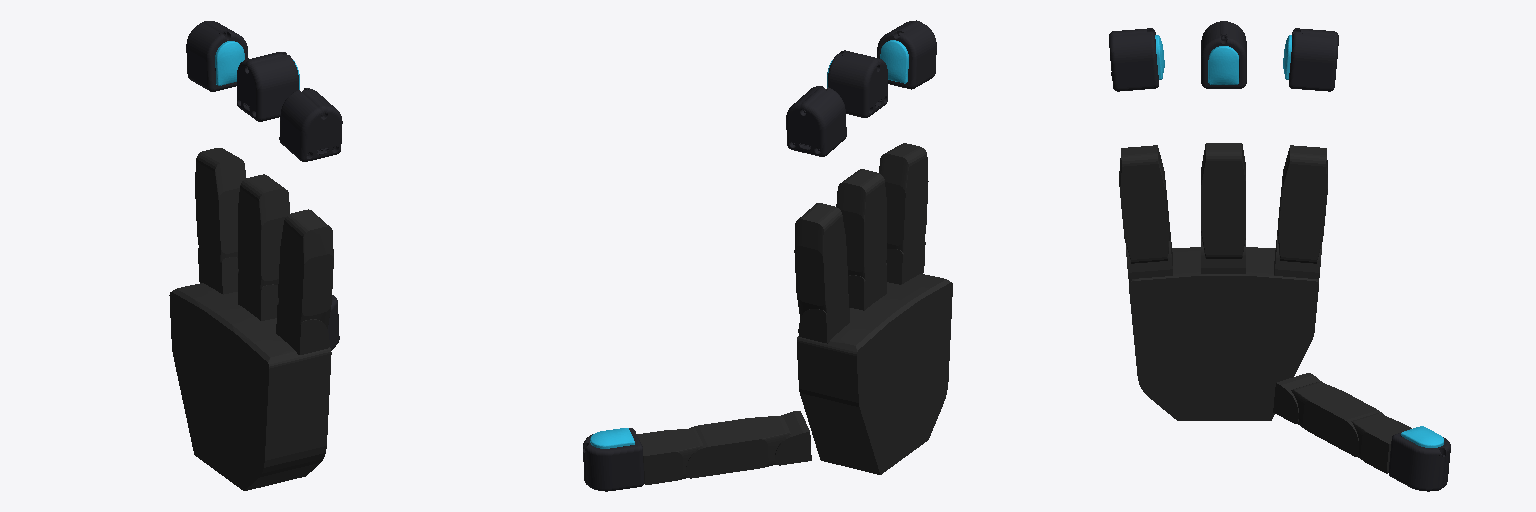
The robot description file, URDF, robot "allegro_digit_compact_inward90":
<?xml version='1.0' encoding='utf-8'?>
<robot name="allegro_digit_compact_inward90" geometry_manifest="collision_baselines/compact_manifest.json" geometry_manifest_sha256="7bac25ed2cc299705995c4d7945d86a44938f8bfdb91de6fba0410e375cc9924" mount_profile="inward90_right">







  <link name="base_link">
    <visual>
      <geometry>
        <mesh filename="meshes/allegro/base_link.obj" />
      </geometry>
      <origin rpy="0 0 0" xyz="0 0 0 " />
      <material name="black">
        <color rgba="0.2 0.2 0.2 1" />
      </material>
    </visual>
    <inertial>
      <origin xyz="0 0 0.0475" rpy="0 0 0" />
      <mass value="0.4154" />
      <inertia ixx="1e-4" ixy="0.0" ixz="0.0" iyy="1e-4" iyz="0.0" izz="1e-4" />
    </inertial>
  <collision><origin xyz="0 0 0" rpy="0 0 0" /><geometry><mesh filename="collision_baselines/compact_0.obj" /></geometry></collision><collision><origin xyz="0 0 0" rpy="0 0 0" /><geometry><mesh filename="collision_baselines/compact_1.obj" /></geometry></collision><collision><origin xyz="0 0 0" rpy="0 0 0" /><geometry><mesh filename="collision_baselines/compact_2.obj" /></geometry></collision></link>




  <link name="link_0.0">
    <visual>
      <geometry>
        <mesh filename="meshes/allegro/link_0.0.obj" />
      </geometry>
      <material name="black" />
    </visual>
    <inertial>
      <mass value="0.0119" />
      <origin xyz="0 0 0" rpy="0 0 0" />
      <inertia ixx="1.01666658333e-06" ixy="0.0" ixz="0.0" iyy="6.47677333333e-07" iyz="0.0" izz="1.01666658333e-06" />
    </inertial>
  <collision>
      <geometry>
        <box size="0.0196 0.0275 0.0164" />
      </geometry>
      <origin rpy="0 0 0" xyz="0 0 0.0082" />
    </collision>
    </link>
  <joint name="joint_0.0" type="revolute">
    <axis xyz="0 0 1" />
    <limit effort="0.35" lower="-0.47" upper="0.47" velocity="6.283" />
    <parent link="base_link" />
    <child link="link_0.0" />
    <origin rpy="-0.08726646255 0 0" xyz="0 0.0435 -0.001542" />
  </joint>
  <link name="link_1.0">
    <visual>
      <geometry>
        <mesh filename="meshes/allegro/link_1.0.obj" />
      </geometry>
      <material name="black" />
    </visual>
    <inertial>
      <mass value="0.065" />
      <origin xyz="0 0 0" rpy="0 0 0" />
      <inertia ixx="7.95654166667e-05" ixy="1.7199e-05" ixz="8.75875e-06" iyy="2.47088833333e-05" iyz="2.413125e-05" izz="7.95654166667e-05" />
    </inertial>
  <collision>
      <geometry>
        <box size="0.0196 0.0275 0.054" />
      </geometry>
      <origin rpy="0 0 0" xyz="0 0 0.027" />
    </collision>
    </link>
  <joint name="joint_1.0" type="revolute">
    <limit effort="0.35" lower="-0.196" upper="1.61" velocity="6.283" />
    <axis xyz="0 1 0" />
    <parent link="link_0.0" />
    <child link="link_1.0" />
    <origin xyz="0 0 0.0164" />
  </joint>
  <link name="link_2.0">
    <visual>
      <geometry>
        <mesh filename="meshes/allegro/link_2.0.obj" />
      </geometry>
      <material name="black" />
    </visual>
    <inertial>
      <mass value="0.0355" />
      <origin xyz="0 0 0" rpy="0 0 0" />
      <inertia ixx="2.63979183333e-05" ixy="6.67968e-06" ixz="4.783625e-06" iyy="1.34948516667e-05" iyz="9.372e-06" izz="2.63979183333e-05" />
    </inertial>
  <collision>
      <geometry>
        <box size="0.0196 0.0275 0.0384" />
      </geometry>
      <origin rpy="0 0 0" xyz="0 0 0.0192" />
    </collision>
    </link>
  <joint name="joint_2.0" type="revolute">
    <axis xyz="0 1 0" />
    <limit effort="0.35" lower="-0.174" upper="1.709" velocity="6.283" />
    <parent link="link_1.0" />
    <child link="link_2.0" />
    <origin xyz="0 0 0.054" />
  </joint>
  <link name="link_3.0">
    <visual>
      <geometry>
        <mesh filename="meshes/allegro/link_3.0.obj" />
      </geometry>
      <material name="black" />
    </visual>
    <inertial>
      <mass value="0.0096" />
      <origin xyz="0 0 0" rpy="0 0 0" />
      <inertia ixx="4.701248e-06" ixy="1.255968e-06" ixz="1.2936e-06" iyy="3.649312e-06" iyz="1.7622e-06" izz="4.701248e-06" />
    </inertial>
  <collision><geometry><mesh filename="collision_baselines/compact_link_3.0.obj" /></geometry></collision></link>
  <joint name="joint_3.0" type="revolute">
    <axis xyz="0 1 0" />
    <limit effort="0.35" lower="-0.227" upper="1.618" velocity="6.283" />
    <parent link="link_2.0" />
    <child link="link_3.0" />
    <origin xyz="0 0 0.0384" />
  </joint>
  <link name="link_4.0">
    <visual>
      <geometry>
        <mesh filename="meshes/allegro/link_0.0.obj" />
      </geometry>
      <material name="black" />
    </visual>
    <inertial>
      <mass value="0.0119" />
      <origin xyz="0 0 0" rpy="0 0 0" />
      <inertia ixx="1.01666658333e-06" ixy="0.0" ixz="0.0" iyy="6.47677333333e-07" iyz="0.0" izz="1.01666658333e-06" />
    </inertial>
  <collision>
      <geometry>
        <box size="0.0196 0.0275 0.0164" />
      </geometry>
      <origin rpy="0 0 0" xyz="0 0 0.0082" />
    </collision>
    </link>
  <joint name="joint_4.0" type="revolute">
    <axis xyz="0 0 1" />
    <limit effort="0.35" lower="-0.47" upper="0.47" velocity="6.283" />
    <parent link="base_link" />
    <child link="link_4.0" />
    <origin rpy="0.0 0 0" xyz="0 0 0.0007" />
  </joint>
  <link name="link_5.0">
    <visual>
      <geometry>
        <mesh filename="meshes/allegro/link_1.0.obj" />
      </geometry>
      <material name="black" />
    </visual>
    <inertial>
      <mass value="0.065" />
      <origin xyz="0 0 0" rpy="0 0 0" />
      <inertia ixx="7.95654166667e-05" ixy="1.7199e-05" ixz="8.75875e-06" iyy="2.47088833333e-05" iyz="2.413125e-05" izz="7.95654166667e-05" />
    </inertial>
  <collision>
      <geometry>
        <box size="0.0196 0.0275 0.054" />
      </geometry>
      <origin rpy="0 0 0" xyz="0 0 0.027" />
    </collision>
    </link>
  <joint name="joint_5.0" type="revolute">
    <limit effort="0.35" lower="-0.196" upper="1.61" velocity="6.283" />
    <axis xyz="0 1 0" />
    <parent link="link_4.0" />
    <child link="link_5.0" />
    <origin xyz="0 0 0.0164" />
  </joint>
  <link name="link_6.0">
    <visual>
      <geometry>
        <mesh filename="meshes/allegro/link_2.0.obj" />
      </geometry>
      <material name="black" />
    </visual>
    <inertial>
      <mass value="0.0355" />
      <origin xyz="0 0 0" rpy="0 0 0" />
      <inertia ixx="2.63979183333e-05" ixy="6.67968e-06" ixz="4.783625e-06" iyy="1.34948516667e-05" iyz="9.372e-06" izz="2.63979183333e-05" />
    </inertial>
  <collision>
      <geometry>
        <box size="0.0196 0.0275 0.0384" />
      </geometry>
      <origin rpy="0 0 0" xyz="0 0 0.0192" />
    </collision>
    </link>
  <joint name="joint_6.0" type="revolute">
    <axis xyz="0 1 0" />
    <limit effort="0.35" lower="-0.174" upper="1.709" velocity="6.283" />
    <parent link="link_5.0" />
    <child link="link_6.0" />
    <origin xyz="0 0 0.054" />
  </joint>
  <link name="link_7.0">
    <visual>
      <geometry>
        <mesh filename="meshes/allegro/link_3.0.obj" />
      </geometry>
      <material name="black" />
    </visual>
    <inertial>
      <mass value="0.0096" />
      <origin xyz="0 0 0" rpy="0 0 0" />
      <inertia ixx="4.701248e-06" ixy="1.255968e-06" ixz="1.2936e-06" iyy="3.649312e-06" iyz="1.7622e-06" izz="4.701248e-06" />
    </inertial>
  <collision><geometry><mesh filename="collision_baselines/compact_link_7.0.obj" /></geometry></collision></link>
  <joint name="joint_7.0" type="revolute">
    <axis xyz="0 1 0" />
    <limit effort="0.35" lower="-0.227" upper="1.618" velocity="6.283" />
    <parent link="link_6.0" />
    <child link="link_7.0" />
    <origin xyz="0 0 0.0384" />
  </joint>
  <link name="link_8.0">
    <visual>
      <geometry>
        <mesh filename="meshes/allegro/link_0.0.obj" />
      </geometry>
      <material name="black" />
    </visual>
    <inertial>
      <mass value="0.0119" />
      <origin xyz="0 0 0" rpy="0 0 0" />
      <inertia ixx="1.01666658333e-06" ixy="0.0" ixz="0.0" iyy="6.47677333333e-07" iyz="0.0" izz="1.01666658333e-06" />
    </inertial>
  <collision>
      <geometry>
        <box size="0.0196 0.0275 0.0164" />
      </geometry>
      <origin rpy="0 0 0" xyz="0 0 0.0082" />
    </collision>
    </link>
  <joint name="joint_8.0" type="revolute">
    <axis xyz="0 0 1" />
    <limit effort="0.35" lower="-0.47" upper="0.47" velocity="6.283" />
    <parent link="base_link" />
    <child link="link_8.0" />
    <origin rpy="0.08726646255 0 0" xyz="0 -0.0435 -0.001542" />
  </joint>
  <link name="link_9.0">
    <visual>
      <geometry>
        <mesh filename="meshes/allegro/link_1.0.obj" />
      </geometry>
      <material name="black" />
    </visual>
    <inertial>
      <mass value="0.065" />
      <origin xyz="0 0 0" rpy="0 0 0" />
      <inertia ixx="7.95654166667e-05" ixy="1.7199e-05" ixz="8.75875e-06" iyy="2.47088833333e-05" iyz="2.413125e-05" izz="7.95654166667e-05" />
    </inertial>
  <collision>
      <geometry>
        <box size="0.0196 0.0275 0.054" />
      </geometry>
      <origin rpy="0 0 0" xyz="0 0 0.027" />
    </collision>
    </link>
  <joint name="joint_9.0" type="revolute">
    <limit effort="0.35" lower="-0.196" upper="1.61" velocity="6.283" />
    <axis xyz="0 1 0" />
    <parent link="link_8.0" />
    <child link="link_9.0" />
    <origin xyz="0 0 0.0164" />
  </joint>
  <link name="link_10.0">
    <visual>
      <geometry>
        <mesh filename="meshes/allegro/link_2.0.obj" />
      </geometry>
      <material name="black" />
    </visual>
    <inertial>
      <mass value="0.0355" />
      <origin xyz="0 0 0" rpy="0 0 0" />
      <inertia ixx="2.63979183333e-05" ixy="6.67968e-06" ixz="4.783625e-06" iyy="1.34948516667e-05" iyz="9.372e-06" izz="2.63979183333e-05" />
    </inertial>
  <collision>
      <geometry>
        <box size="0.0196 0.0275 0.0384" />
      </geometry>
      <origin rpy="0 0 0" xyz="0 0 0.0192" />
    </collision>
    </link>
  <joint name="joint_10.0" type="revolute">
    <axis xyz="0 1 0" />
    <limit effort="0.35" lower="-0.174" upper="1.709" velocity="6.283" />
    <parent link="link_9.0" />
    <child link="link_10.0" />
    <origin xyz="0 0 0.054" />
  </joint>
  <link name="link_11.0">
    <visual>
      <geometry>
        <mesh filename="meshes/allegro/link_3.0.obj" />
      </geometry>
      <material name="black" />
    </visual>
    <inertial>
      <mass value="0.0096" />
      <origin xyz="0 0 0" rpy="0 0 0" />
      <inertia ixx="4.701248e-06" ixy="1.255968e-06" ixz="1.2936e-06" iyy="3.649312e-06" iyz="1.7622e-06" izz="4.701248e-06" />
    </inertial>
  <collision><geometry><mesh filename="collision_baselines/compact_link_11.0.obj" /></geometry></collision></link>
  <joint name="joint_11.0" type="revolute">
    <axis xyz="0 1 0" />
    <limit effort="0.35" lower="-0.227" upper="1.618" velocity="6.283" />
    <parent link="link_10.0" />
    <child link="link_11.0" />
    <origin xyz="0 0 0.0384" />
  </joint>
  <link name="link_12.0">
    <visual>
      <geometry>
        <mesh filename="meshes/allegro/link_12.0_right.obj" />
      </geometry>
      <material name="black">
        <color rgba=".2 .2 .2 1" />
      </material>
      <origin rpy="3.1415926518 0 0" xyz="0 0 0" />
    </visual>
    <inertial>
      <mass value="0.0176" />
      <origin xyz="0 0 0" rpy="0 0 0" />
      <inertia ixx="1.89273333333e-5" ixy="7.16716e-06" ixz="5.35568e-06" iyy="1.43008213333e-05" iyz="6.8068e-06" izz="1.89273333333e-05" />
    </inertial>
  <collision>
      <geometry>
        <box size="0.0358 0.034 0.0455" />
      </geometry>
      <origin rpy="0 0 0" xyz="-0.0179 0.009 0.0145" />
    </collision>
    </link>
  <joint name="joint_12.0" type="revolute">
    <axis xyz="-1 0 0" />
    <limit effort="0.35" lower="0.263" upper="1.396" velocity="6.283" />
    <parent link="base_link" />
    <child link="link_12.0" />
    <origin rpy="0 -1.65806278845 -1.5707963259" xyz="-0.0182 0.019333 -0.045987" />
  </joint>
  <link name="link_13.0">
    <visual>
      <geometry>
        <mesh filename="meshes/allegro/link_13.0.obj" />
      </geometry>
      <material name="black">
        <color rgba=".2 .2 .2 1" />
      </material>
    </visual>
    <inertial>
      <mass value="0.0119" />
      <origin xyz="0 0 0" rpy="0 0 0" />
      <inertia ixx="4.24250866667e-06" ixy="1.032087e-06" ixz="1.603525e-06" iyy="4.52362633333e-06" iyz="1.44808125e-06" izz="4.24250866667e-06" />
    </inertial>
  <collision>
      <geometry>
        <box size="0.0196 0.0275 0.0177" />
      </geometry>
      <origin rpy="0 0 0" xyz="0 0 0.00885" />
    </collision>
    </link>
  <joint name="joint_13.0" type="revolute">
    <axis xyz="0 0 1" />
    <limit effort="0.35" lower="-0.105" upper="1.163" velocity="6.283" />
    <parent link="link_12.0" />
    <child link="link_13.0" />

    <origin xyz="-0.027 0.005 0.0399" />


  </joint>
  <link name="link_14.0">
    <visual>
      <geometry>
        <mesh filename="meshes/allegro/link_14.0.obj" />
      </geometry>
      <material name="black">
      </material>
    </visual>
    <inertial>
      <mass value="0.038" />
      <origin xyz="0 0 0" rpy="0 0 0" />
      <inertia ixx="4.30439933333e-05" ixy="9.57068e-06" ixz="5.1205e-06" iyy="1.44451933333e-05" iyz="1.342825e-05" izz="4.30439933333e-05" />
    </inertial>
  <collision>
      <geometry>
        <box size="0.0196 0.0275 0.0514" />
      </geometry>
      <origin rpy="0 0 0" xyz="0 0 0.0257" />
    </collision>
    </link>
  <joint name="joint_14.0" type="revolute">
    <axis xyz="0 1 0" />
    <limit effort="0.35" lower="-0.189" upper="1.644" velocity="6.283" />
    <parent link="link_13.0" />
    <child link="link_14.0" />
    <origin xyz="0 0 0.0177" />
  </joint>
  <link name="link_15.0">
    <visual>
      <geometry>
        <mesh filename="meshes/allegro/link_15.0.obj" />
      </geometry>
      <material name="black">
      </material>
    </visual>
    <inertial>
      <mass value="0.0388" />
      <origin xyz="0 0 0" rpy="0 0 0" />
      <inertia ixx="3.29223173333e-05" ixy="8.042076e-06" ixz="5.2283e-06" iyy="1.47493026667e-5" iyz="1.1283525e-5" izz="3.29223173333e-05" />
    </inertial>
  <collision><geometry><mesh filename="collision_baselines/compact_link_15.0.obj" /></geometry></collision></link>
  <joint name="joint_15.0" type="revolute">
    <axis xyz="0 1 0" />
    <limit effort="0.35" lower="-0.162" upper="1.719" velocity="6.283" />
    <parent link="link_14.0" />
    <child link="link_15.0" />
    <origin xyz="0 0 0.0514" />
  </joint>
  <link name="digit_index_housing"><inertial><origin xyz="0.00218801311136 1.78240362917e-05 0.0160993331698" rpy="0 0 0" /><mass value="0.0189078298898" /><inertia ixx="2.53973927545e-06" iyy="2.7122177686e-06" izz="2.20243115762e-06" ixy="6.49514917651e-12" ixz="-3.29040029283e-09" iyz="-4.84317291144e-12" /></inertial><visual><origin xyz="-0 -0 -0" rpy="0 0 0" /><geometry><mesh filename="official_digit/visual/digit_housing.obj" /></geometry><material name="digit_surface"><color rgba="0.18 0.18 0.20 1" /></material></visual><collision><origin xyz="-0 -0 -0" rpy="0 0 0" /><geometry><mesh filename="official_digit/collision/digit_housing_000.obj" /></geometry></collision></link><link name="digit_index_gel"><inertial><origin xyz="-0.00246047714445 0.000240627763833 0.000401999033733" rpy="0 0 0" /><mass value="0.00109217011023" /><inertia ixx="6.92086493152e-08" iyy="4.59226195084e-08" izz="2.54413562975e-08" ixy="6.75706143118e-14" ixz="-1.20485652413e-10" iyz="-1.10698831136e-12" /></inertial><visual><origin xyz="-0.02013599 0.00023865 -0.01604481" rpy="0 0 0" /><geometry><mesh filename="official_digit/visual/digit_gel.obj" /></geometry><material name="digit_surface"><color rgba="0.2 0.75 0.9 1" /></material></visual><collision><origin xyz="-0.02013599 0.00023865 -0.01604481" rpy="0 0 0" /><geometry><mesh filename="official_digit/collision/digit_gel_000.obj" /></geometry></collision></link><joint name="digit_index_housing_mount" type="fixed"><parent link="link_3.0" /><child link="digit_index_housing" /><origin rpy="0 0 -1.570796326794897" xyz="0 0 0.0147" />
  </joint><joint name="digit_index_gel_mount" type="fixed"><parent link="digit_index_housing" /><child link="digit_index_gel" /><origin xyz="0.02013599 -0.00023865 0.01604481" rpy="0 0 0" /></joint><link name="digit_middle_housing"><inertial><origin xyz="0.00218801311136 1.78240362917e-05 0.0160993331698" rpy="0 0 0" /><mass value="0.0189078298898" /><inertia ixx="2.53973927545e-06" iyy="2.7122177686e-06" izz="2.20243115762e-06" ixy="6.49514917651e-12" ixz="-3.29040029283e-09" iyz="-4.84317291144e-12" /></inertial><visual><origin xyz="-0 -0 -0" rpy="0 0 0" /><geometry><mesh filename="official_digit/visual/digit_housing.obj" /></geometry><material name="digit_surface"><color rgba="0.18 0.18 0.20 1" /></material></visual><collision><origin xyz="-0 -0 -0" rpy="0 0 0" /><geometry><mesh filename="official_digit/collision/digit_housing_000.obj" /></geometry></collision></link><link name="digit_middle_gel"><inertial><origin xyz="-0.00246047714445 0.000240627763833 0.000401999033733" rpy="0 0 0" /><mass value="0.00109217011023" /><inertia ixx="6.92086493152e-08" iyy="4.59226195084e-08" izz="2.54413562975e-08" ixy="6.75706143118e-14" ixz="-1.20485652413e-10" iyz="-1.10698831136e-12" /></inertial><visual><origin xyz="-0.02013599 0.00023865 -0.01604481" rpy="0 0 0" /><geometry><mesh filename="official_digit/visual/digit_gel.obj" /></geometry><material name="digit_surface"><color rgba="0.2 0.75 0.9 1" /></material></visual><collision><origin xyz="-0.02013599 0.00023865 -0.01604481" rpy="0 0 0" /><geometry><mesh filename="official_digit/collision/digit_gel_000.obj" /></geometry></collision></link><joint name="digit_middle_housing_mount" type="fixed"><parent link="link_7.0" /><child link="digit_middle_housing" /><origin rpy="0 0 0" xyz="0 0 0.0147" />
  </joint><joint name="digit_middle_gel_mount" type="fixed"><parent link="digit_middle_housing" /><child link="digit_middle_gel" /><origin xyz="0.02013599 -0.00023865 0.01604481" rpy="0 0 0" /></joint><link name="digit_ring_housing"><inertial><origin xyz="0.00218801311136 1.78240362917e-05 0.0160993331698" rpy="0 0 0" /><mass value="0.0189078298898" /><inertia ixx="2.53973927545e-06" iyy="2.7122177686e-06" izz="2.20243115762e-06" ixy="6.49514917651e-12" ixz="-3.29040029283e-09" iyz="-4.84317291144e-12" /></inertial><visual><origin xyz="-0 -0 -0" rpy="0 0 0" /><geometry><mesh filename="official_digit/visual/digit_housing.obj" /></geometry><material name="digit_surface"><color rgba="0.18 0.18 0.20 1" /></material></visual><collision><origin xyz="-0 -0 -0" rpy="0 0 0" /><geometry><mesh filename="official_digit/collision/digit_housing_000.obj" /></geometry></collision></link><link name="digit_ring_gel"><inertial><origin xyz="-0.00246047714445 0.000240627763833 0.000401999033733" rpy="0 0 0" /><mass value="0.00109217011023" /><inertia ixx="6.92086493152e-08" iyy="4.59226195084e-08" izz="2.54413562975e-08" ixy="6.75706143118e-14" ixz="-1.20485652413e-10" iyz="-1.10698831136e-12" /></inertial><visual><origin xyz="-0.02013599 0.00023865 -0.01604481" rpy="0 0 0" /><geometry><mesh filename="official_digit/visual/digit_gel.obj" /></geometry><material name="digit_surface"><color rgba="0.2 0.75 0.9 1" /></material></visual><collision><origin xyz="-0.02013599 0.00023865 -0.01604481" rpy="0 0 0" /><geometry><mesh filename="official_digit/collision/digit_gel_000.obj" /></geometry></collision></link><joint name="digit_ring_housing_mount" type="fixed"><parent link="link_11.0" /><child link="digit_ring_housing" /><origin rpy="0 0 1.570796326794897" xyz="0 0 0.0147" />
  </joint><joint name="digit_ring_gel_mount" type="fixed"><parent link="digit_ring_housing" /><child link="digit_ring_gel" /><origin xyz="0.02013599 -0.00023865 0.01604481" rpy="0 0 0" /></joint><link name="digit_thumb_housing"><inertial><origin xyz="0.00218801311136 1.78240362917e-05 0.0160993331698" rpy="0 0 0" /><mass value="0.0189078298898" /><inertia ixx="2.53973927545e-06" iyy="2.7122177686e-06" izz="2.20243115762e-06" ixy="6.49514917651e-12" ixz="-3.29040029283e-09" iyz="-4.84317291144e-12" /></inertial><visual><origin xyz="-0 -0 -0" rpy="0 0 0" /><geometry><mesh filename="official_digit/visual/digit_housing.obj" /></geometry><material name="digit_surface"><color rgba="0.18 0.18 0.20 1" /></material></visual><collision><origin xyz="-0 -0 -0" rpy="0 0 0" /><geometry><mesh filename="official_digit/collision/digit_housing_000.obj" /></geometry></collision></link><link name="digit_thumb_gel"><inertial><origin xyz="-0.00246047714445 0.000240627763833 0.000401999033733" rpy="0 0 0" /><mass value="0.00109217011023" /><inertia ixx="6.92086493152e-08" iyy="4.59226195084e-08" izz="2.54413562975e-08" ixy="6.75706143118e-14" ixz="-1.20485652413e-10" iyz="-1.10698831136e-12" /></inertial><visual><origin xyz="-0.02013599 0.00023865 -0.01604481" rpy="0 0 0" /><geometry><mesh filename="official_digit/visual/digit_gel.obj" /></geometry><material name="digit_surface"><color rgba="0.2 0.75 0.9 1" /></material></visual><collision><origin xyz="-0.02013599 0.00023865 -0.01604481" rpy="0 0 0" /><geometry><mesh filename="official_digit/collision/digit_gel_000.obj" /></geometry></collision></link><joint name="digit_thumb_housing_mount" type="fixed"><parent link="link_15.0" /><child link="digit_thumb_housing" /><origin rpy="0 0 0" xyz="0 0 0.0303" />

  </joint><joint name="digit_thumb_gel_mount" type="fixed"><parent link="digit_thumb_housing" /><child link="digit_thumb_gel" /><origin xyz="0.02013599 -0.00023865 0.01604481" rpy="0 0 0" /></joint></robot>

--- What the picture shows (computed from the rendered views, not written in the file) ---
3 views of the same robot in one strip: view 1: azimuth 30°, elevation 25°; view 2: azimuth 150°, elevation 25°; view 3: azimuth 270°, elevation 25° (orthographic).
Robot: allegro_digit_compact_inward90 — 25 links, 24 joints (16 revolute, 8 fixed); root link base_link; default pose: joints at zero except 1 at the middle of their limits (joint_12.0 = 0.8295).
Visible links, largest first — view 1: base_link, link_9.0, link_5.0, link_1.0, digit_ring_housing, digit_middle_housing, digit_index_housing, link_8.0, link_4.0, link_0.0, digit_index_gel; view 2: base_link, link_1.0, link_5.0, link_14.0, link_9.0, digit_index_housing, digit_middle_housing, digit_thumb_housing, link_15.0, digit_ring_housing, link_13.0, link_0.0 (+4 smaller); view 3: base_link, link_9.0, link_1.0, link_5.0, link_14.0, digit_ring_housing, digit_index_housing, digit_thumb_housing, link_15.0, digit_middle_housing, digit_middle_gel, link_13.0 (+4 smaller).
Boxes of the visible links, bbox=[...] form: base_link: bbox=[169, 283, 331, 490]; link_9.0: bbox=[278, 209, 333, 328]; link_5.0: bbox=[238, 174, 289, 289]; link_1.0: bbox=[195, 148, 246, 263]; digit_ring_housing: bbox=[279, 88, 342, 161]; digit_middle_housing: bbox=[237, 52, 298, 121]; digit_index_housing: bbox=[186, 21, 248, 91]; link_8.0: bbox=[276, 302, 329, 354]; link_4.0: bbox=[238, 271, 278, 320]; link_0.0: bbox=[198, 248, 238, 294]; digit_index_gel: bbox=[215, 41, 244, 85]; base_link: bbox=[797, 274, 952, 474]; link_1.0: bbox=[794, 203, 847, 321]; link_5.0: bbox=[836, 169, 886, 289]; link_14.0: bbox=[686, 416, 790, 478]; link_9.0: bbox=[879, 143, 928, 264]; digit_index_housing: bbox=[786, 86, 846, 156]; digit_middle_housing: bbox=[828, 50, 887, 117]; digit_thumb_housing: bbox=[583, 428, 643, 491]; link_15.0: bbox=[637, 428, 702, 484]; digit_ring_housing: bbox=[877, 20, 936, 89]; link_13.0: bbox=[775, 411, 811, 465]; link_0.0: bbox=[798, 294, 849, 343]; base_link: bbox=[1129, 247, 1318, 420]; link_9.0: bbox=[1119, 145, 1169, 263]; link_1.0: bbox=[1278, 145, 1327, 263]; link_5.0: bbox=[1201, 143, 1245, 258]; link_14.0: bbox=[1291, 382, 1384, 456]; digit_ring_housing: bbox=[1109, 28, 1158, 91]; digit_index_housing: bbox=[1289, 28, 1338, 91]; digit_thumb_housing: bbox=[1388, 433, 1450, 491]; link_15.0: bbox=[1351, 413, 1411, 473]; digit_middle_housing: bbox=[1201, 21, 1246, 88]; digit_middle_gel: bbox=[1208, 46, 1238, 84]; link_13.0: bbox=[1273, 373, 1321, 423].
Size in the robot's own frame: 0.1461 by 0.204 by 0.2538 metres.
18 mesh visuals loaded from 11 distinct referenced files (8 OBJ); not drawn: 7 (reference not matched to a file when rendering).
